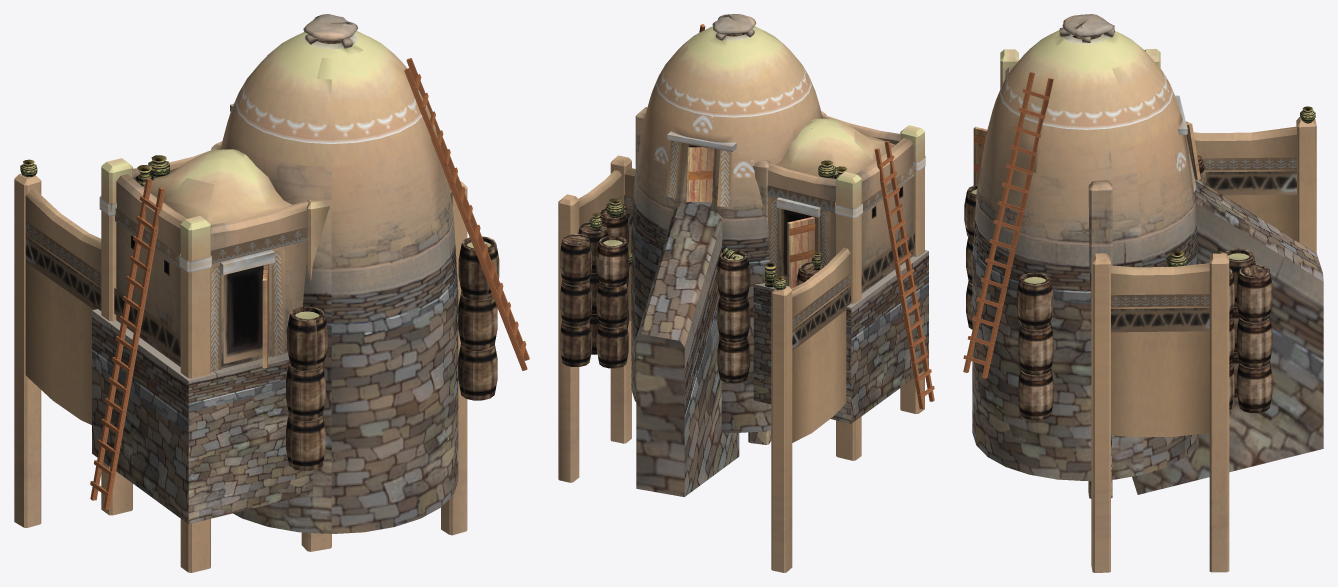
Rendered from kush_farmstead.glb.
3 views of the same model, side by side, from view 1: azimuth 30°, elevation 25°; view 2: azimuth 150°, elevation 25°; view 3: azimuth 270°, elevation 25° (orthographic). The views are drawn at different scales.
Visible parts, largest first — view 1: kush_farmstead_part0; view 2: kush_farmstead_part0; view 3: kush_farmstead_part0.
Part boxes in pixels (x1,y1,x2,y2): kush_farmstead_part0: [14, 14, 529, 572]; kush_farmstead_part0: [558, 14, 934, 572]; kush_farmstead_part0: [963, 14, 1323, 572].
Size of the model in its own units: 3.2 by 4.39 by 2.93.
Materials: 1 (1 with a texture image).
